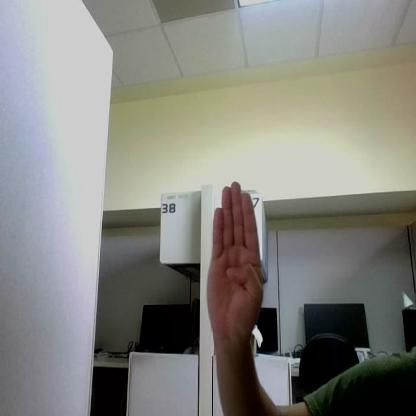B: (208, 181, 262, 329)
